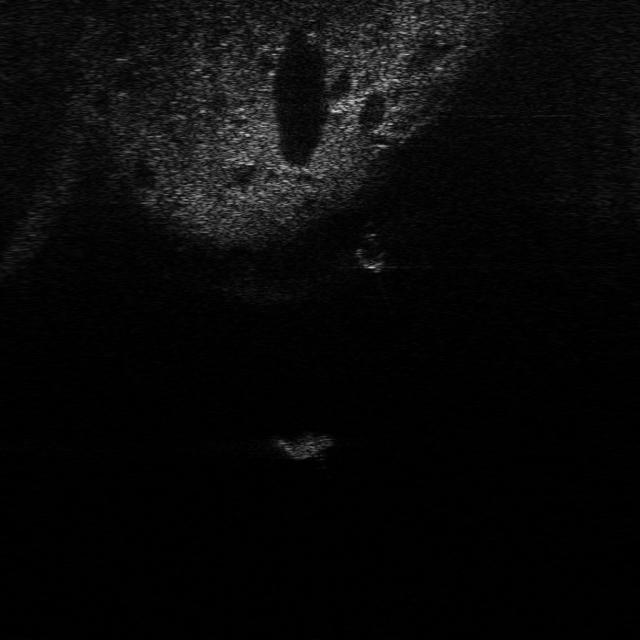ball: (348, 234, 391, 271)
cube: (270, 426, 336, 459)
